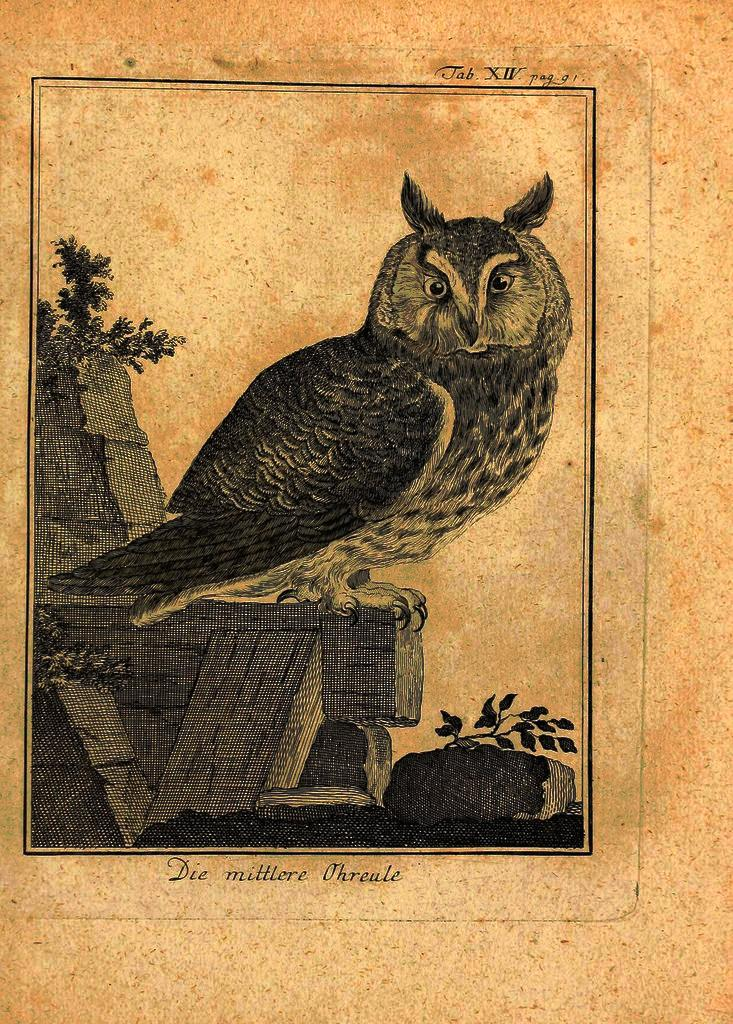Owl: (49, 172, 575, 632)
